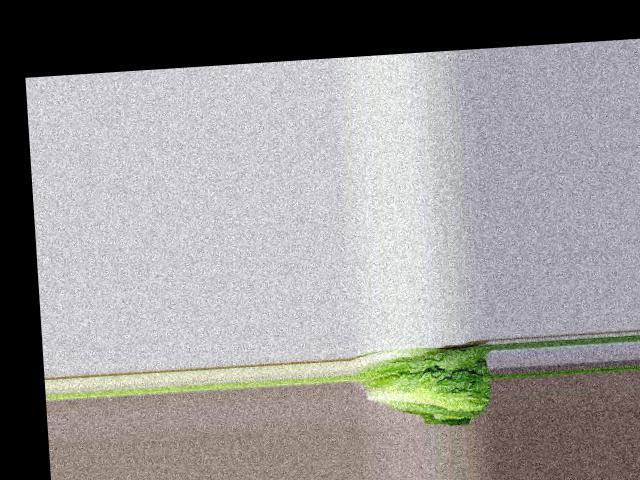lettuce: (356, 339, 494, 421)
